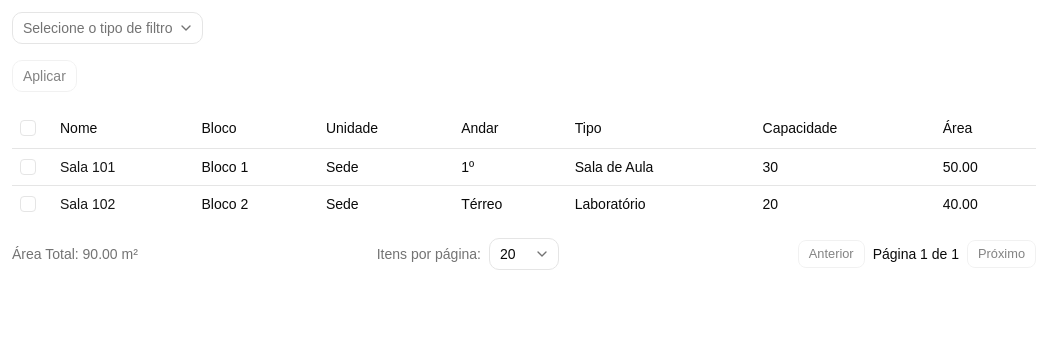
Test: PublicadosPage › usuário autenticado (UC20-FE) › selecionar todos marca todas as linhas
The image size is (1048, 361).
Click the checkbox named "Selecionar todos da página" at (28, 128), box [20,120,36,136]
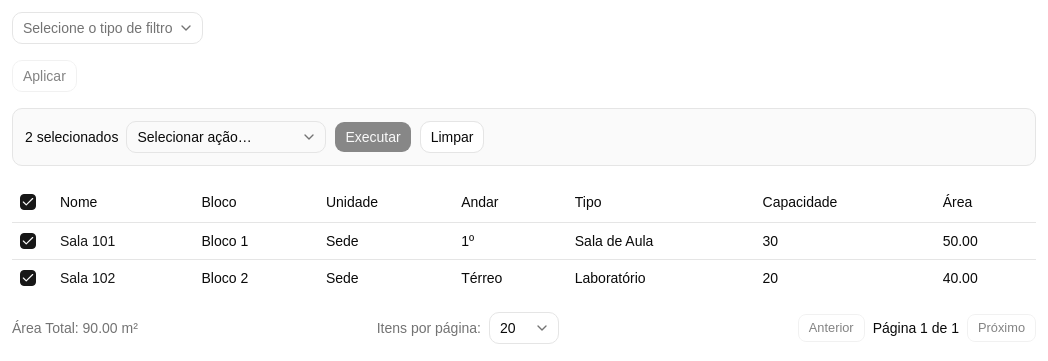
Expected: the text "2 selecionados" is shown, [25,127,118,147]
